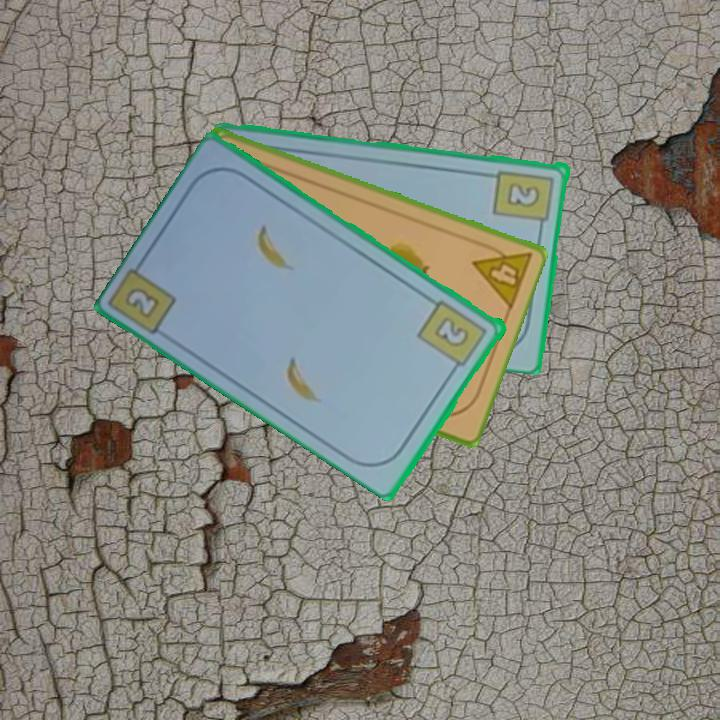2b: (414, 296, 491, 376), (491, 166, 557, 233), (121, 283, 163, 321)
4p: (468, 237, 534, 312)
